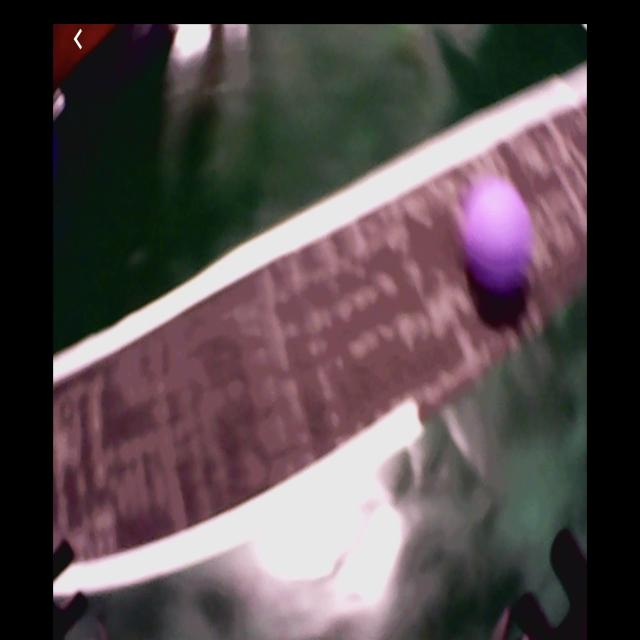ball: (462, 177, 532, 302)
